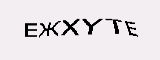Ү: (81, 17, 106, 36)
